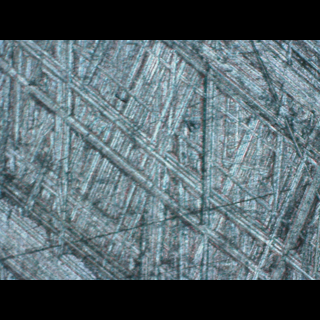d: (29, 50, 284, 269)
